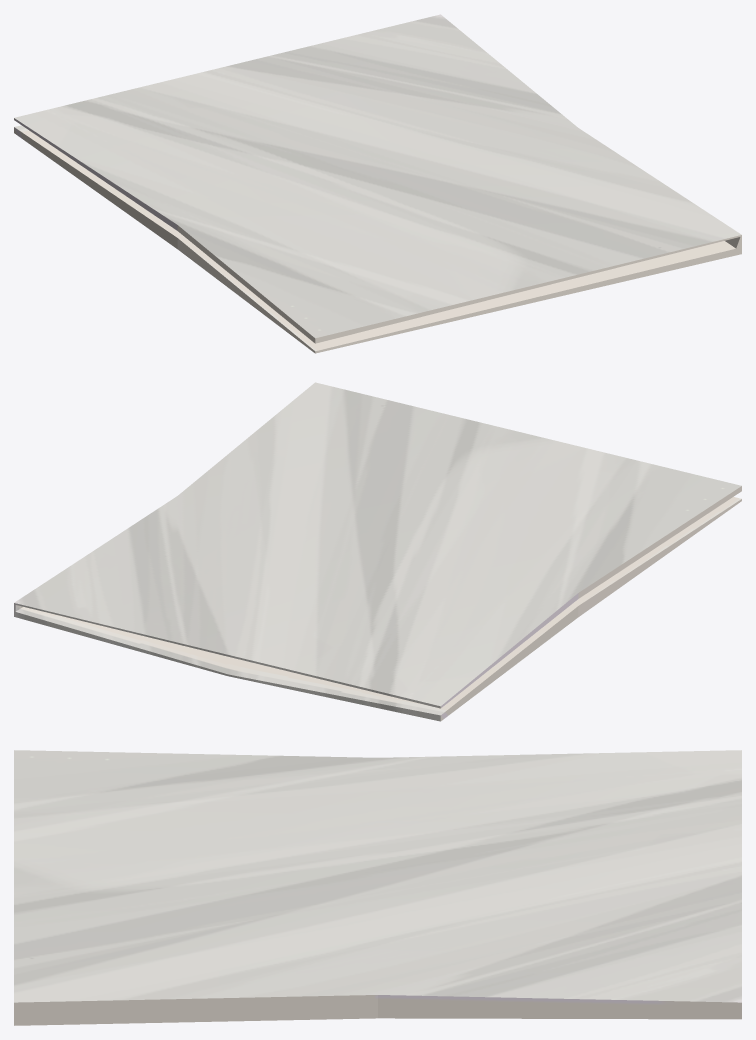
The model's file is Paper.glb.
The picture shows the model from 3 angles, top to bottom: view 1: azimuth 30°, elevation 25°; view 2: azimuth 150°, elevation 25°; view 3: azimuth 270°, elevation 25°; orthographic projection. The views are drawn at different scales.
Parts seen in each view (by area): view 1: Cube.066; view 2: Cube.066; view 3: Cube.066.
Boxes of the visible parts, x1,y1,x2,y2 form: Cube.066: [14, 14, 741, 353]; Cube.066: [14, 382, 741, 721]; Cube.066: [14, 750, 741, 1025].
Bounding box in the file's own units: 0.5394 × 0.0295 × 0.6595.
Materials: 1 (1 with a texture image).
